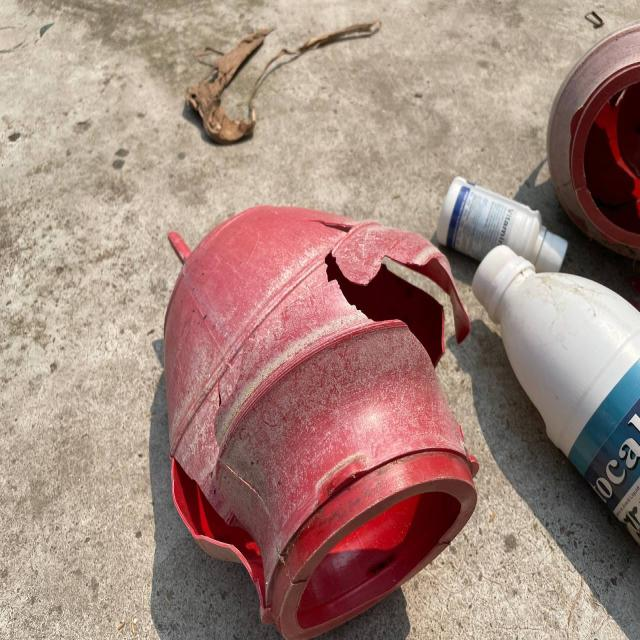Plastics: (131, 212, 497, 638), (444, 160, 640, 564), (543, 14, 640, 235)
